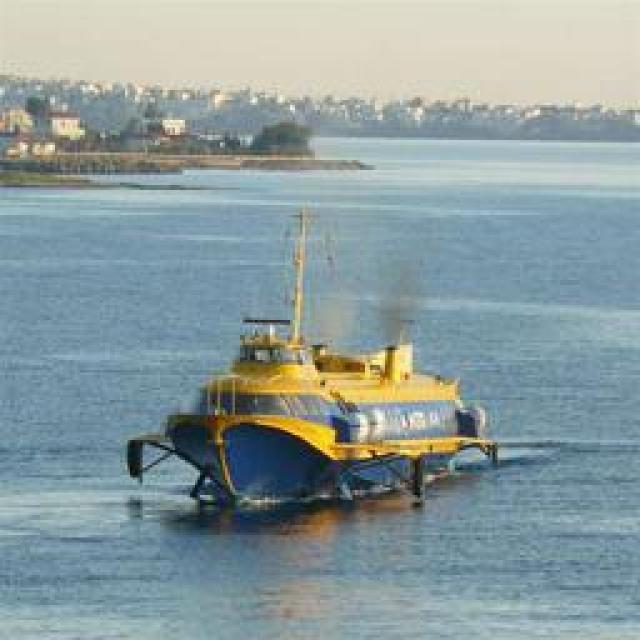CIV_Ship: (141, 234, 501, 512)
